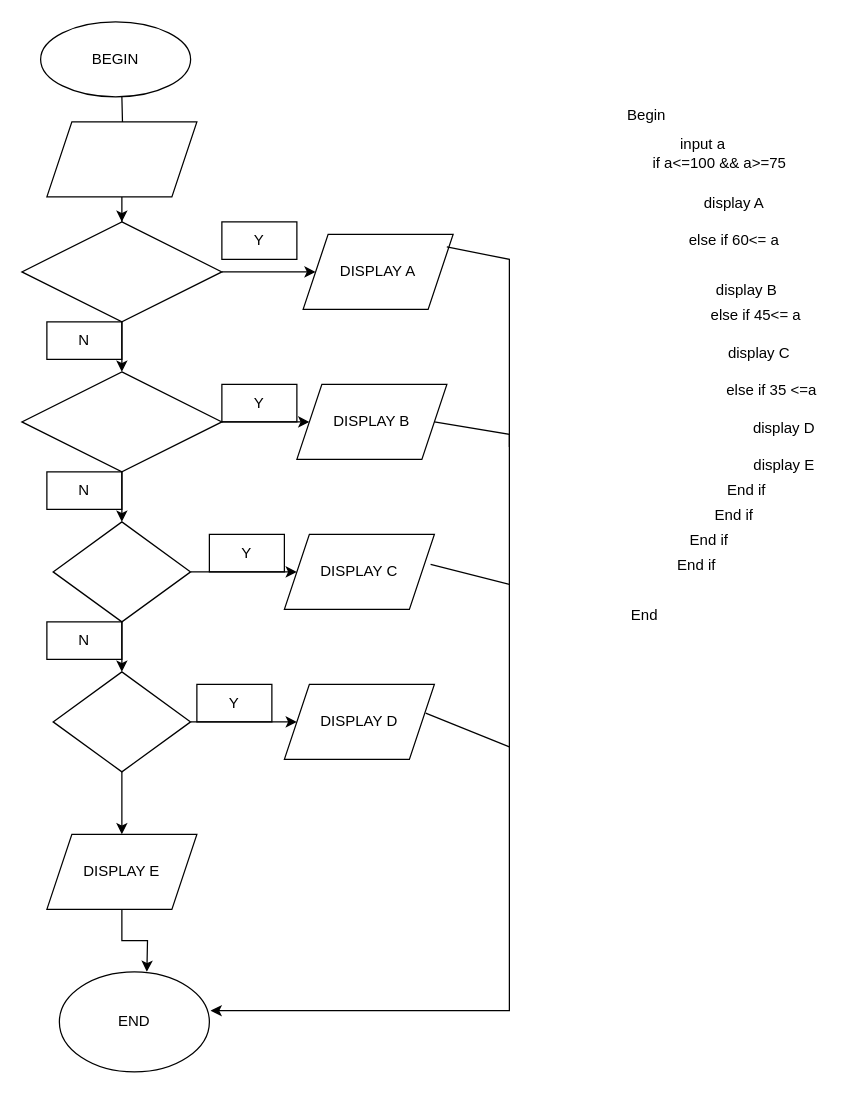
Image size: 844x1094. Some labels were removed from this diagram. Here are the shapes that lost their labels. From the top down, the centre of each, then its label:
At (121,159): "INPUT a".
At (121,271): "a<= 100 && a>=75".
At (121,421): "60<=a".
At (121,571): "45<=a".
At (121,721): "35<=a".
